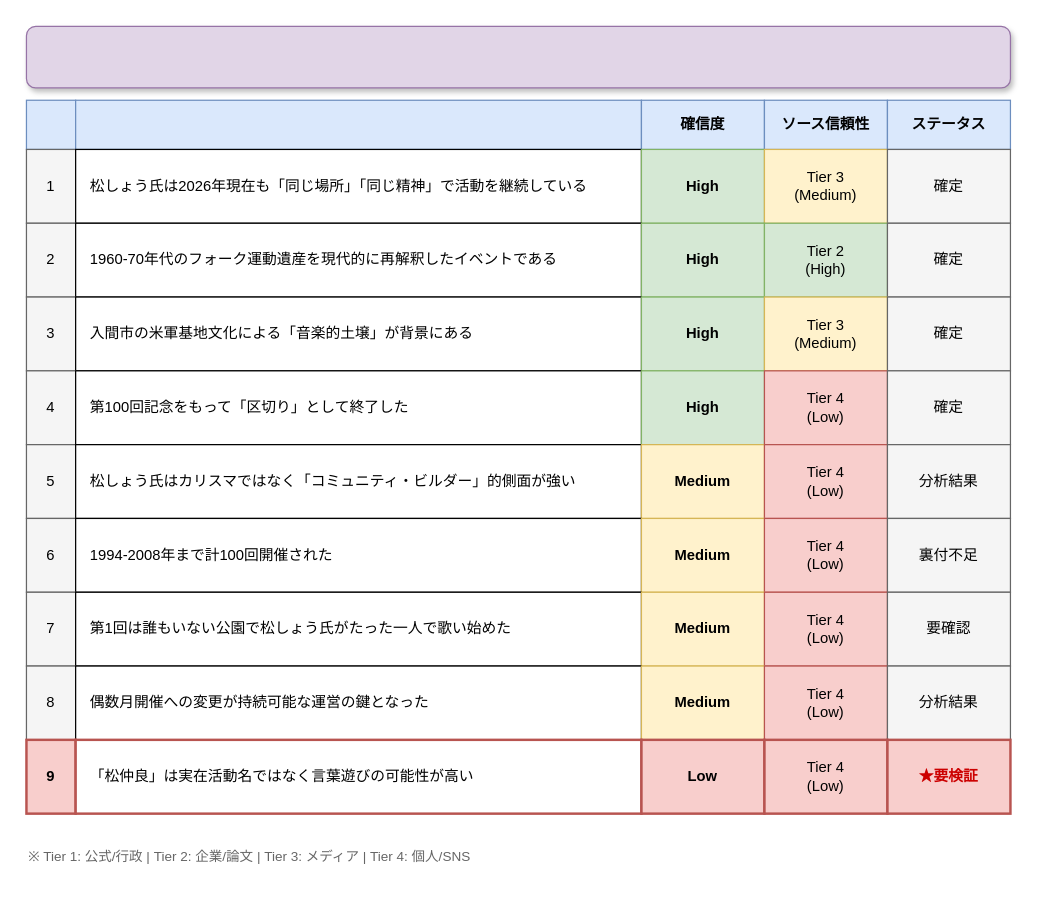
The diagram is 1039 pixels wide and 897 high, and some of its shapes have lost their labels. Each missing label, with the centre of its shape:
"No." belongs at pixel 50 124.
"主張・ファクト (Claim)" belongs at pixel 357 124.
"確信度ヒートマップ：入間川フォークジャンボリー調査結果" belongs at pixel 519 58.
